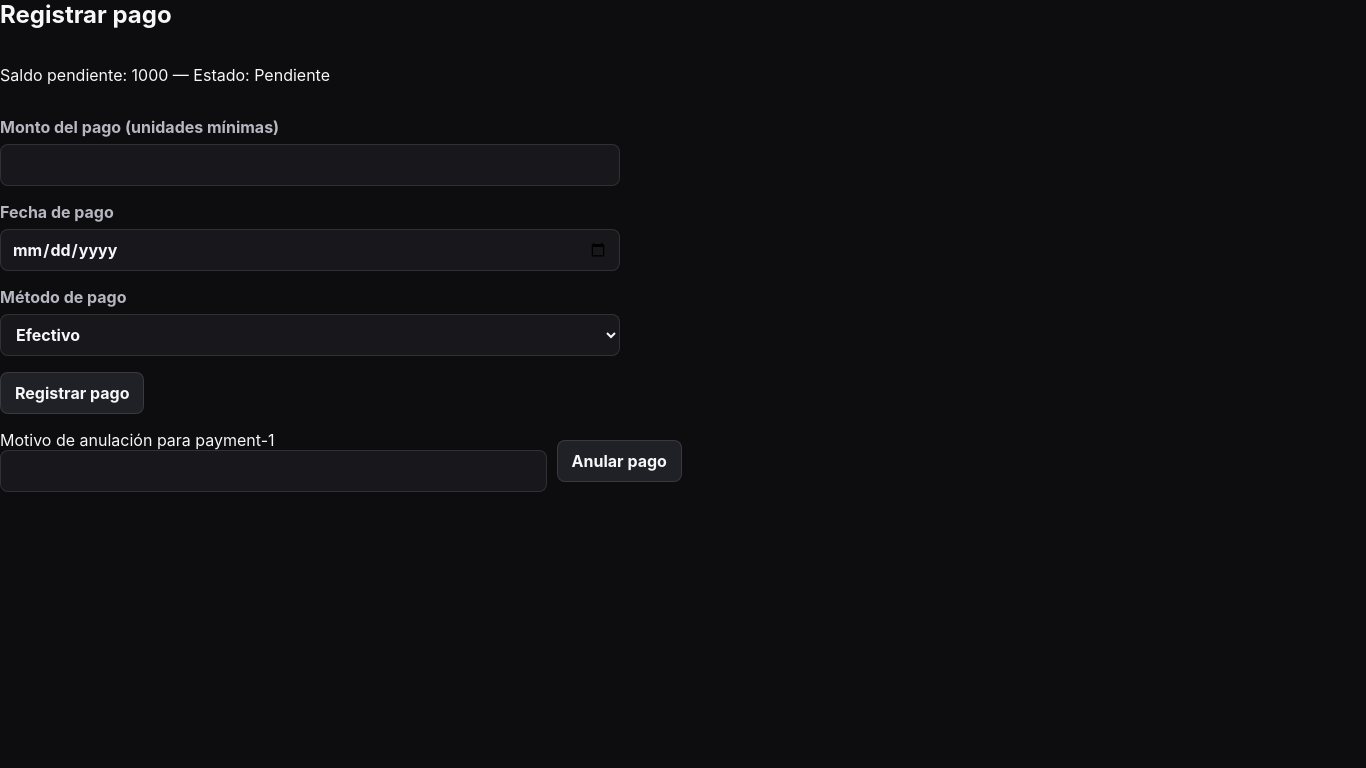
PaymentForm › reports register and void repository failures while preserving the form state
Expected: the text "Saldo pendiente: 1000 — Estado: Pendiente" is shown, x1=0 y1=65 x2=330 y2=85
Step 1. Type "400" into the field labelled "Monto del pago (unidades mínimas)" → (310, 165), box x1=0 y1=144 x2=620 y2=186
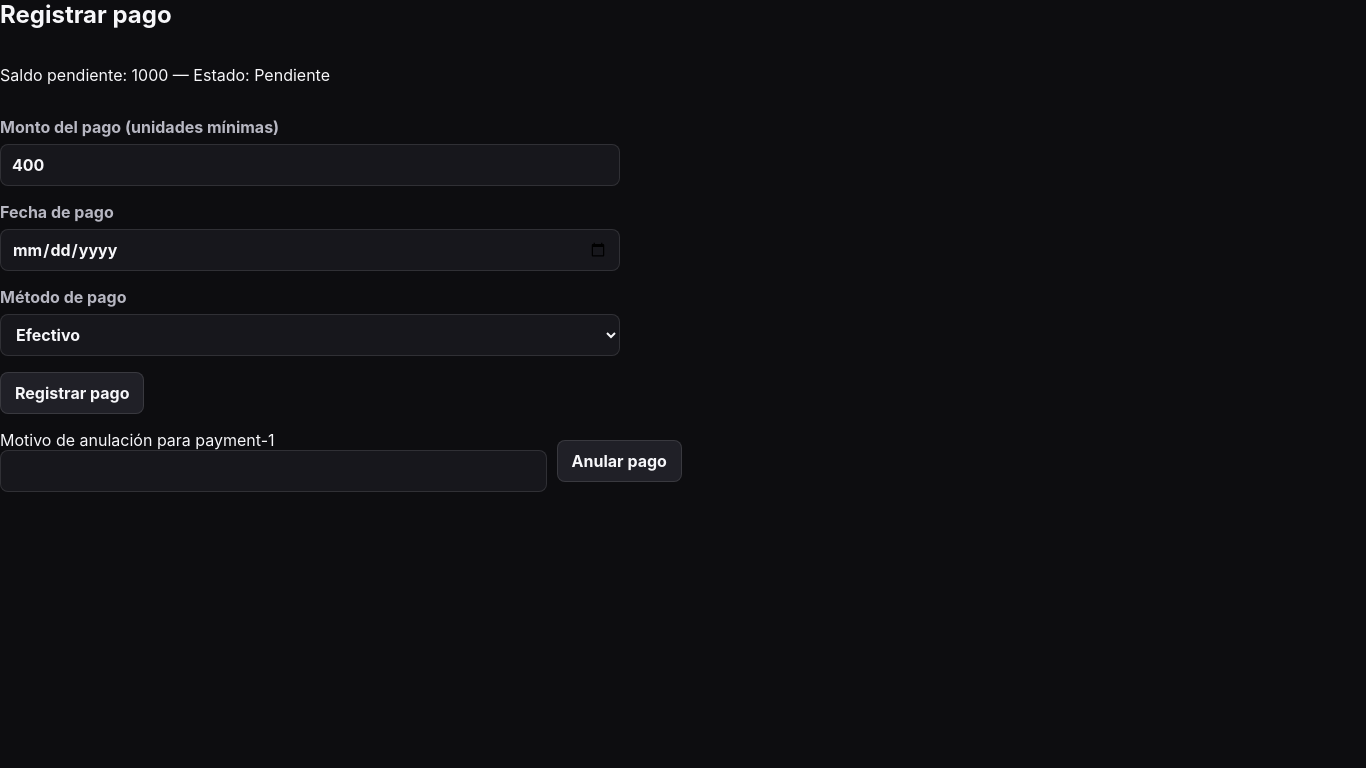
Step 2. Type "2026-08-10" into the date field labelled "Fecha de pago" → (310, 250), box x1=0 y1=229 x2=620 y2=271
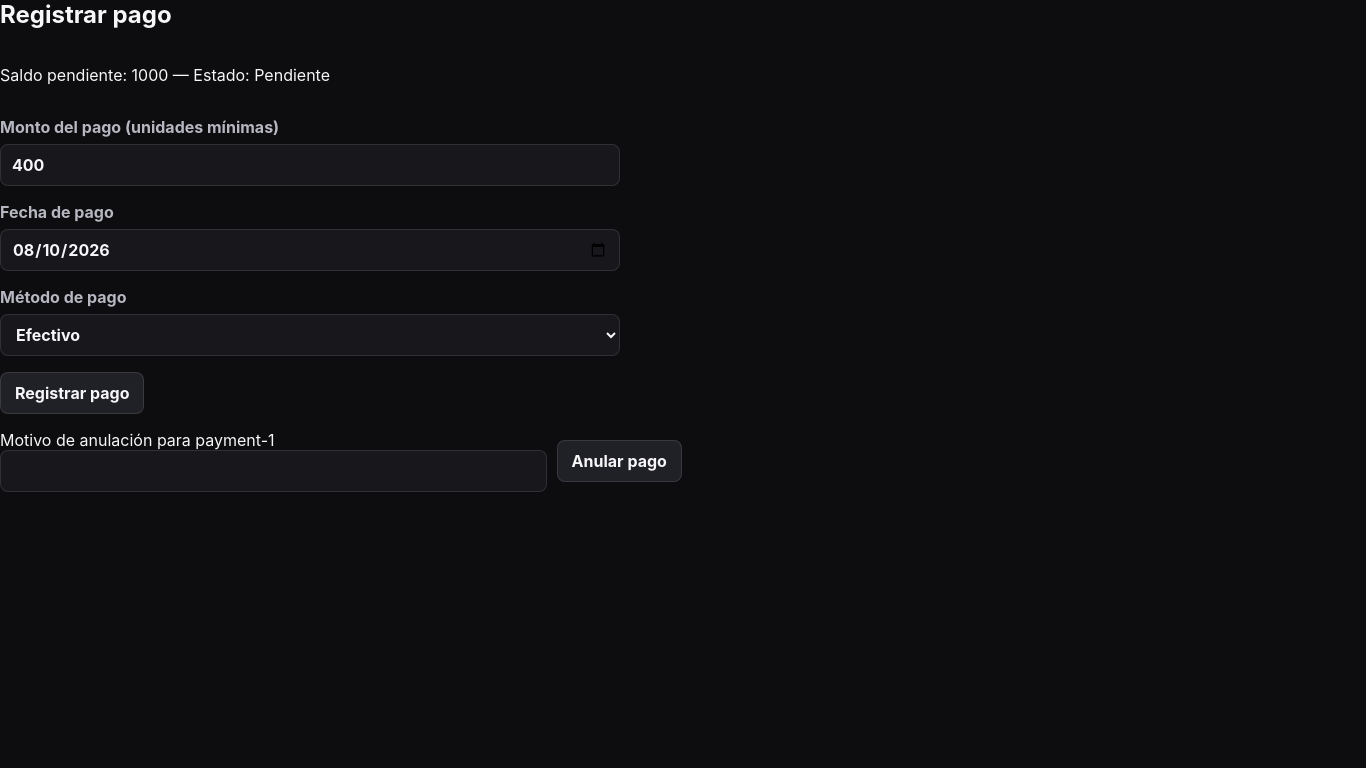
Step 3. Click the button "Registrar pago" → (72, 393), box x1=0 y1=372 x2=144 y2=414
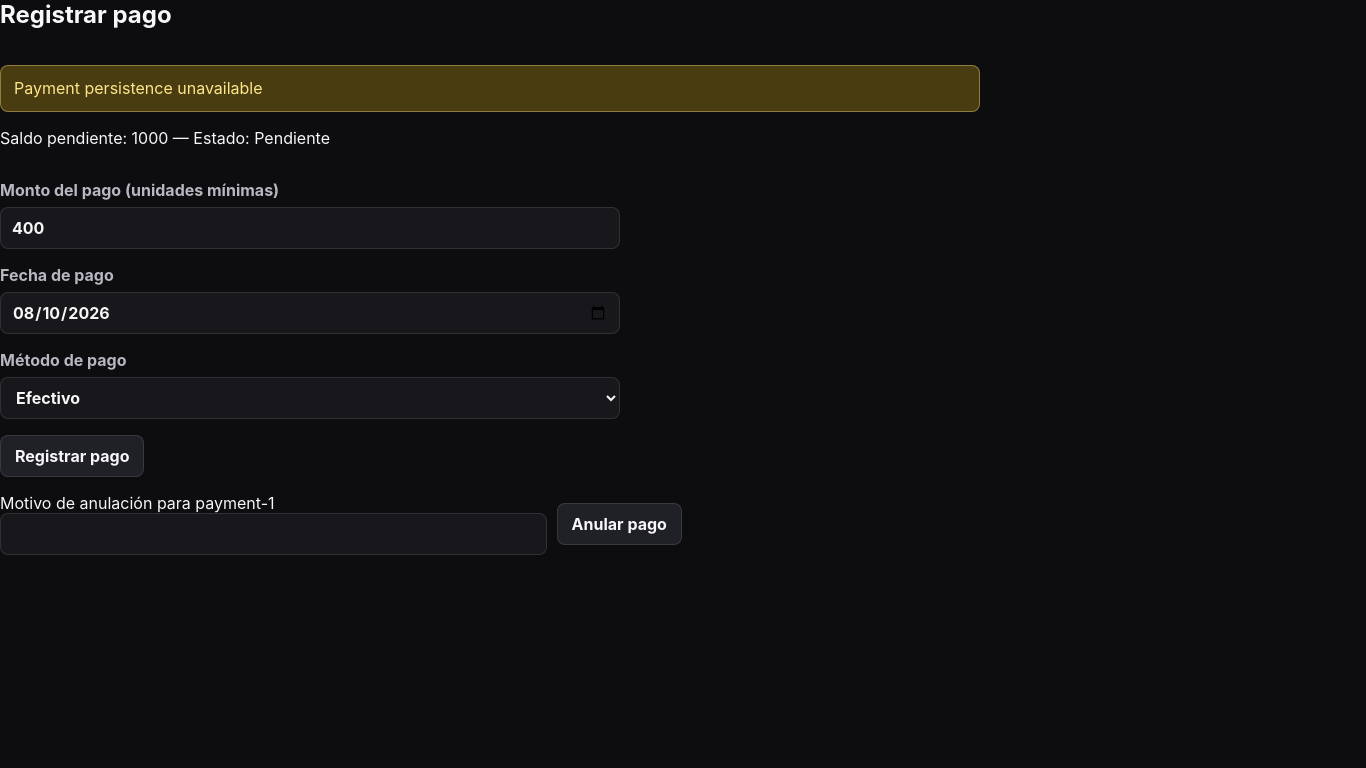
Expected: the message reads "Payment persistence unavailable", x1=14 y1=78 x2=262 y2=98
Step 4. Type "Duplicate entry" into the field labelled "Motivo de anulación para payment-1" → (273, 534), box x1=0 y1=513 x2=547 y2=555
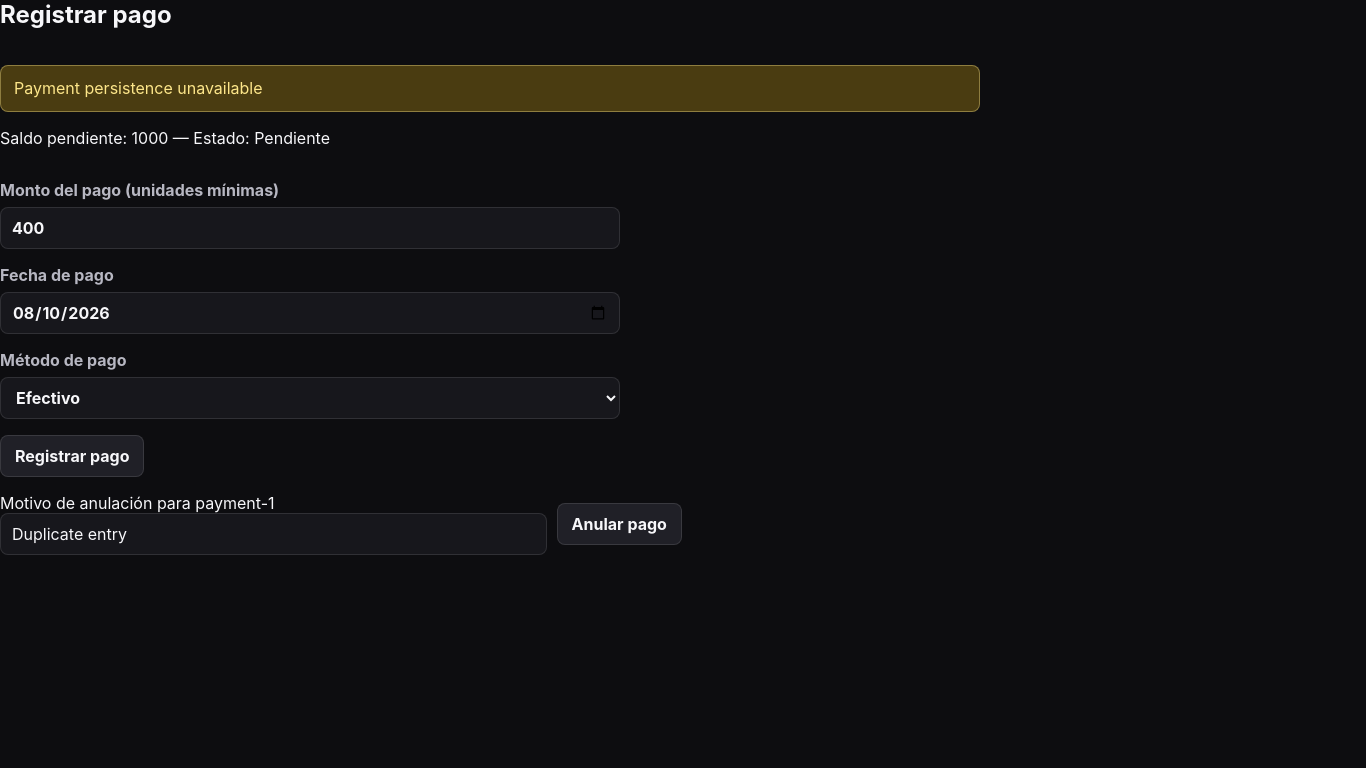
Step 5. Click the button with aria-label "Anular pago payment-1" → (619, 524), box x1=557 y1=503 x2=682 y2=545
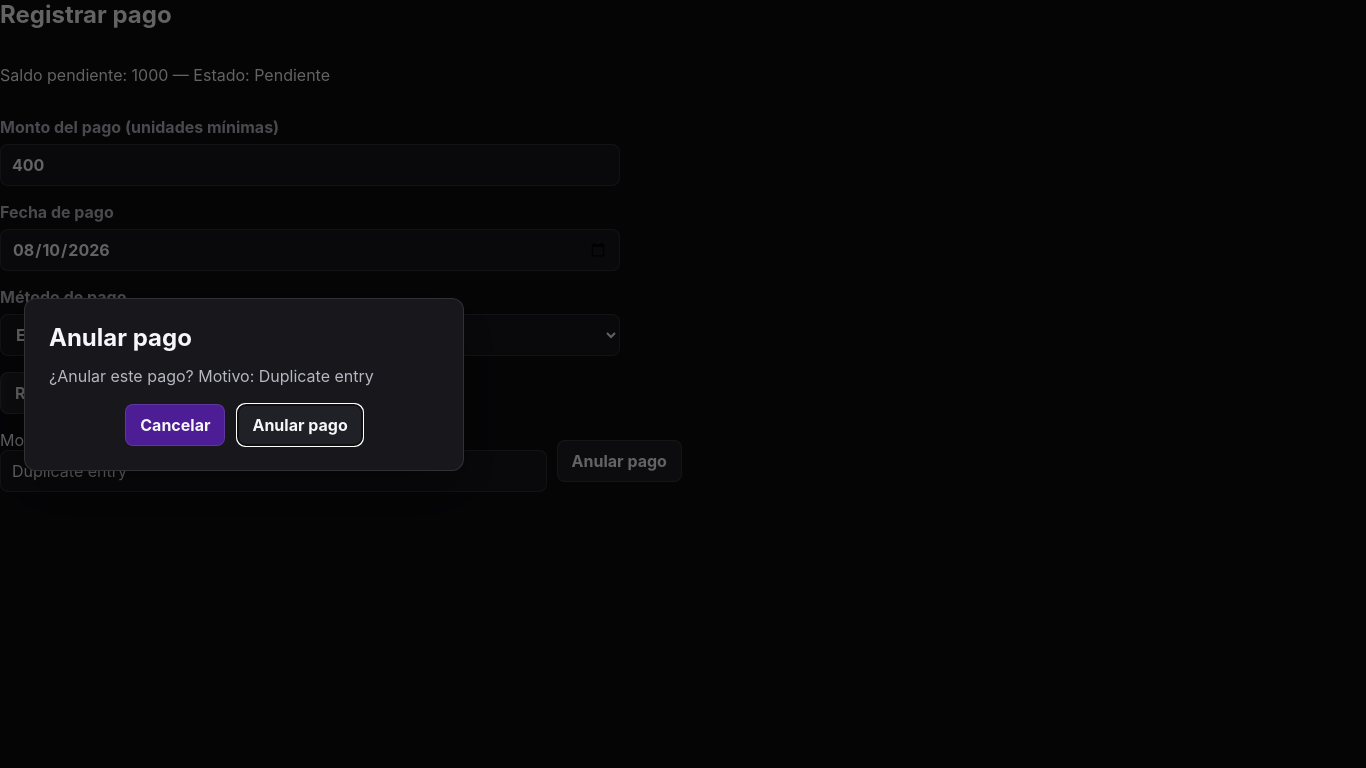
Step 6. Click the button "Anular pago" → (300, 424), box x1=238 y1=404 x2=363 y2=446
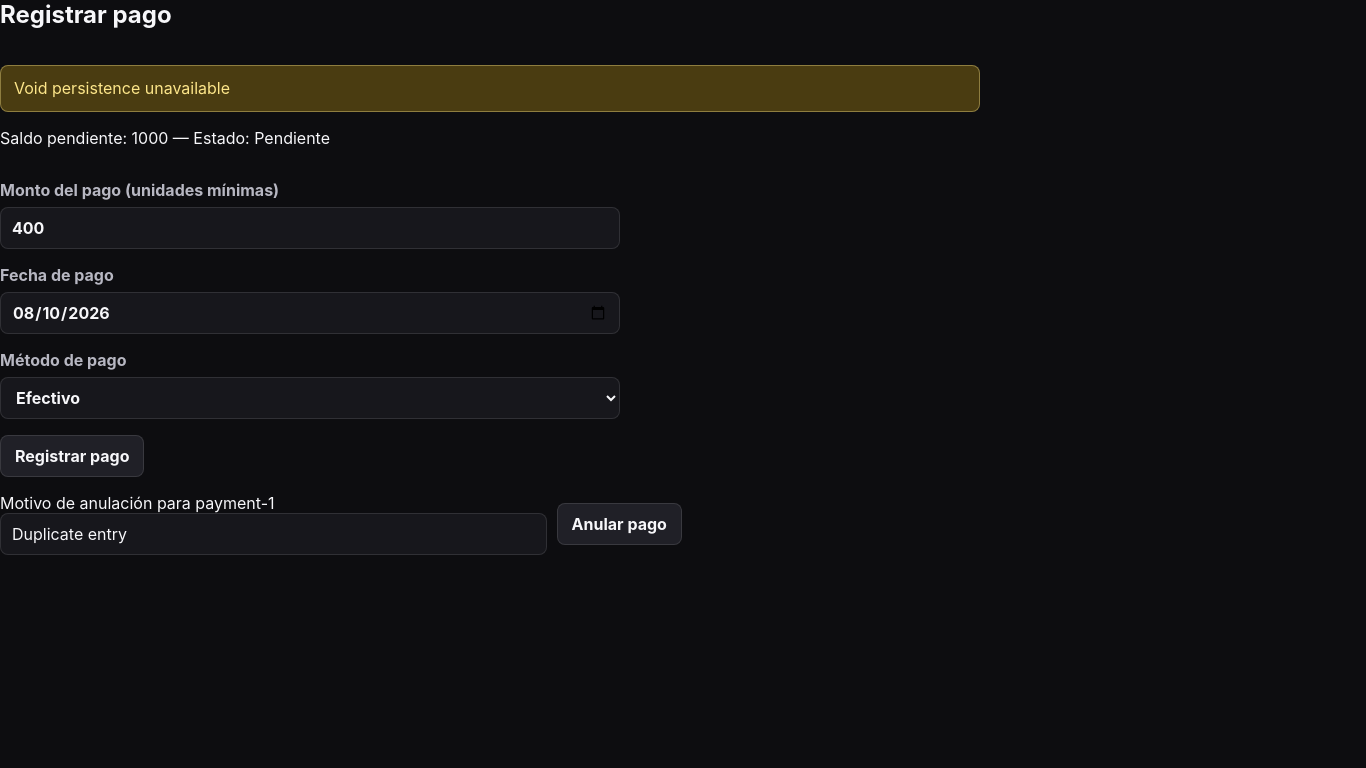
Expected: the message reads "Void persistence unavailable", x1=14 y1=78 x2=230 y2=98
